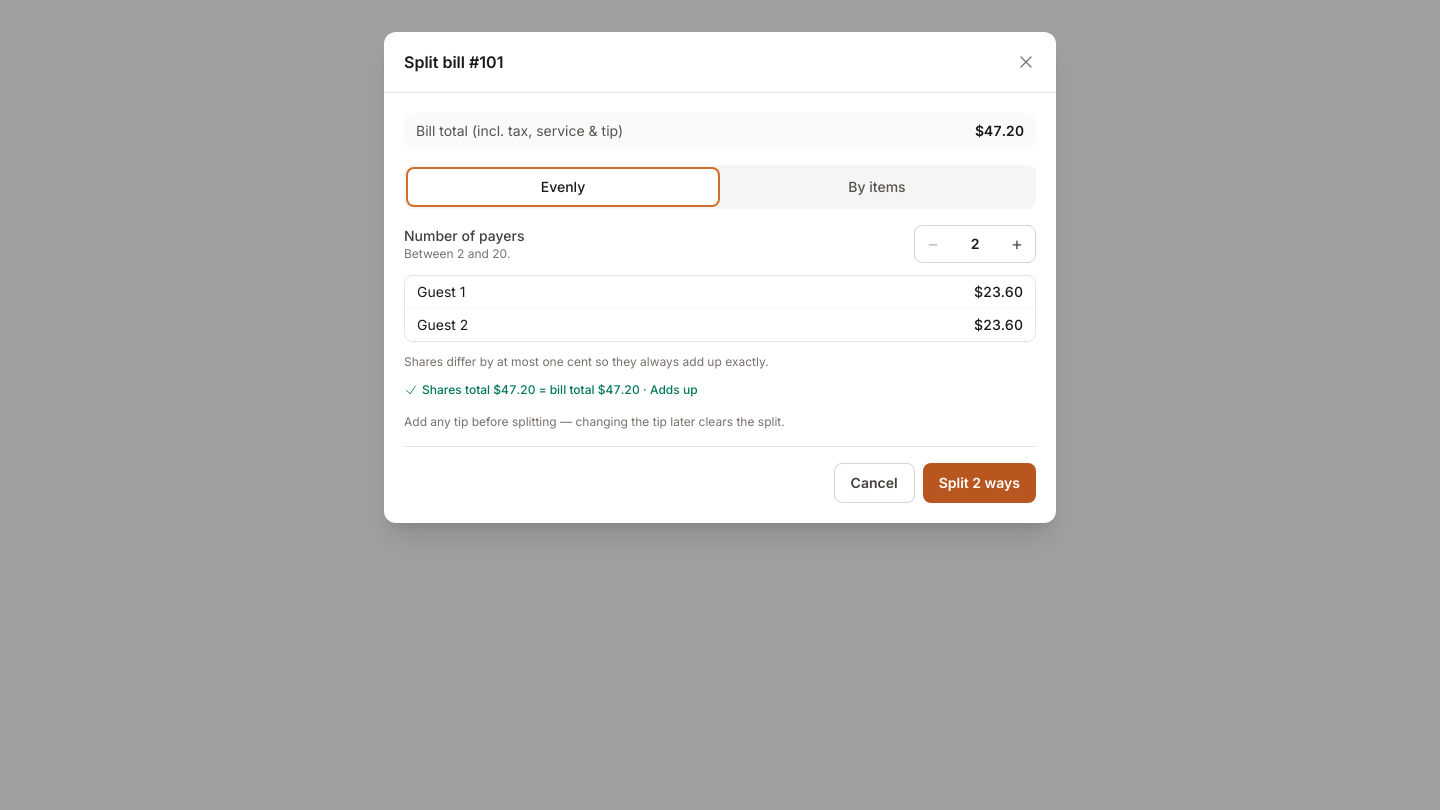
it: SplitDialog › rejects a by-items split until every item is assigned to a guest
Click the tab "By items". click: click(877, 187)
box: left=722, top=169, right=1032, bottom=205
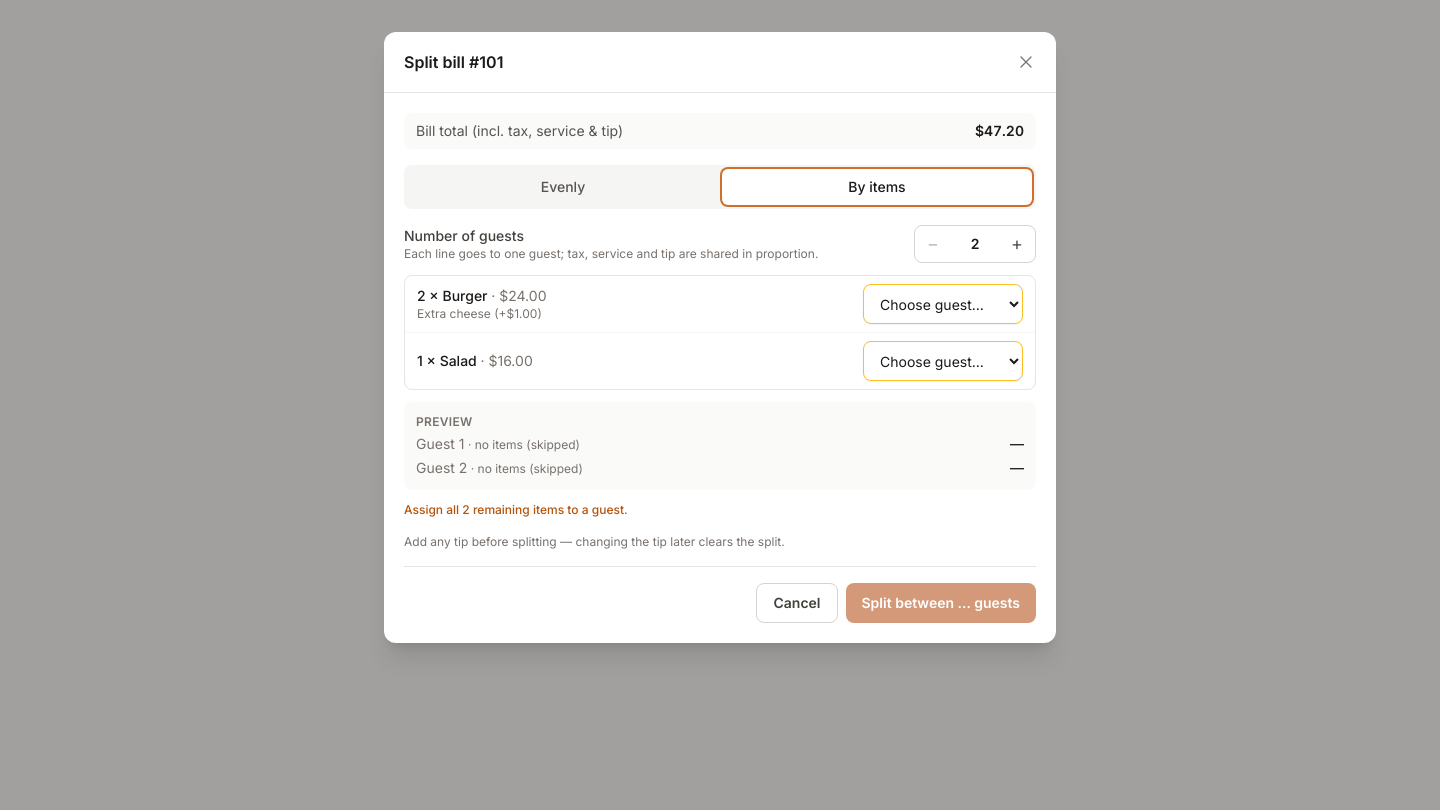
Expected: the text "Assign all 2 remaining items to a guest." is shown, left=404, top=502, right=628, bottom=517
Expected: the button "Split between … guests" is disabled, left=846, top=583, right=1036, bottom=623
Select "Guest 1" in the dropdown named "Guest paying for Burger". click: (943, 304)
box: left=863, top=284, right=1023, bottom=324
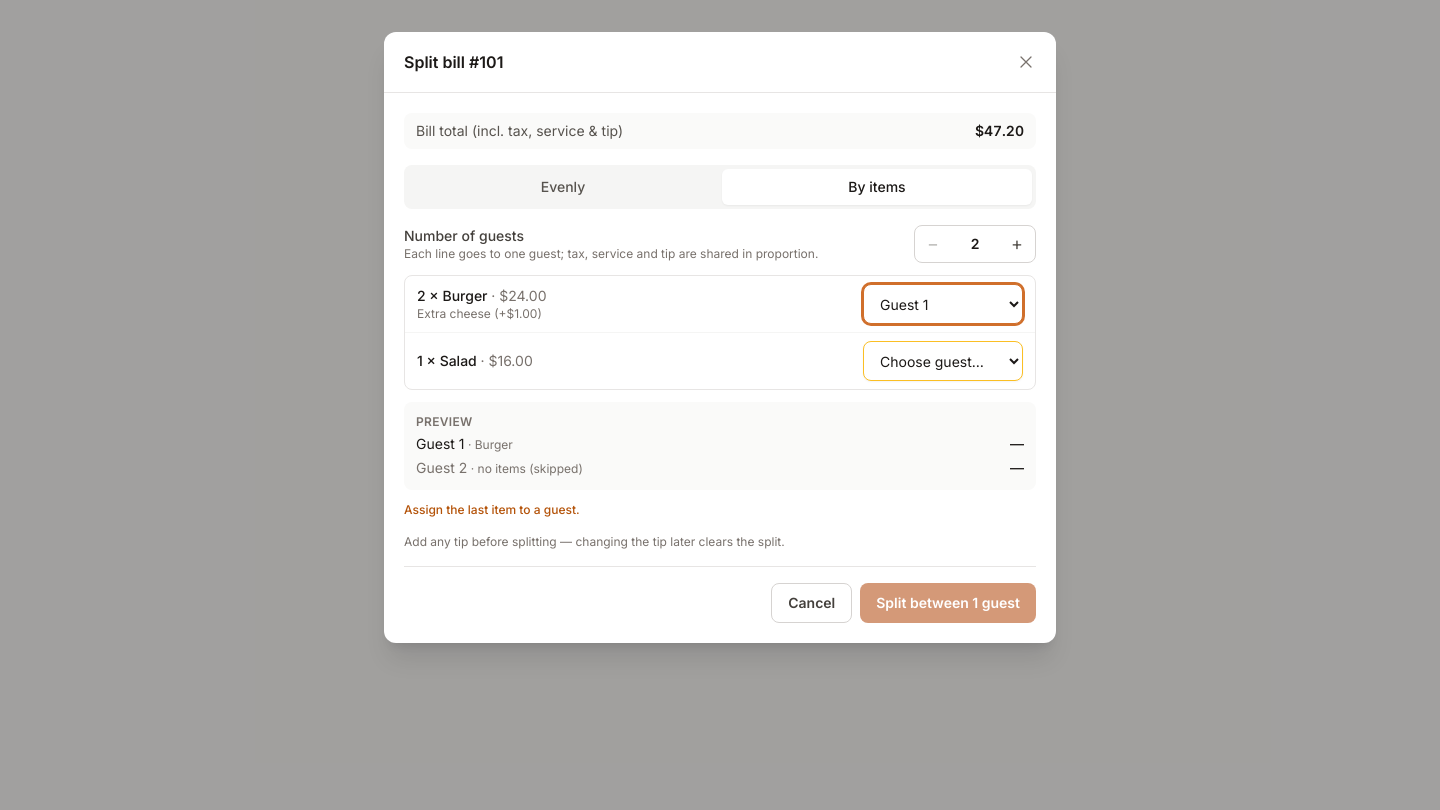
Expected: the button "Split between 1 guest" is disabled, left=860, top=583, right=1036, bottom=623
Expected: the text "Assign the last item to a guest." is shown, left=404, top=502, right=580, bottom=517
